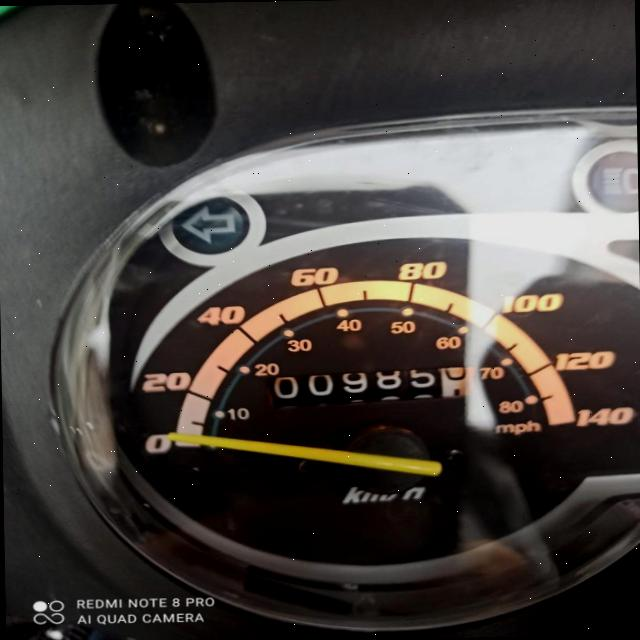odometer: (264, 359, 474, 408)
